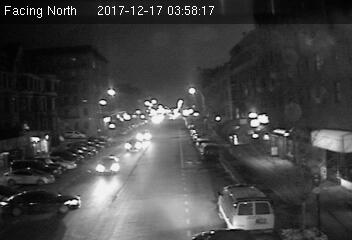car: (95, 155, 120, 177), (123, 138, 145, 153)
police: (216, 182, 276, 231)
